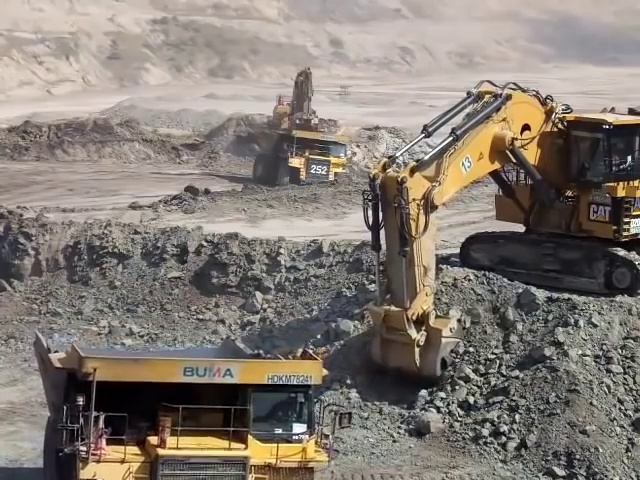dumper: (30, 329, 354, 476), (256, 128, 349, 188)
excavator: (364, 78, 640, 383), (271, 65, 317, 129)
